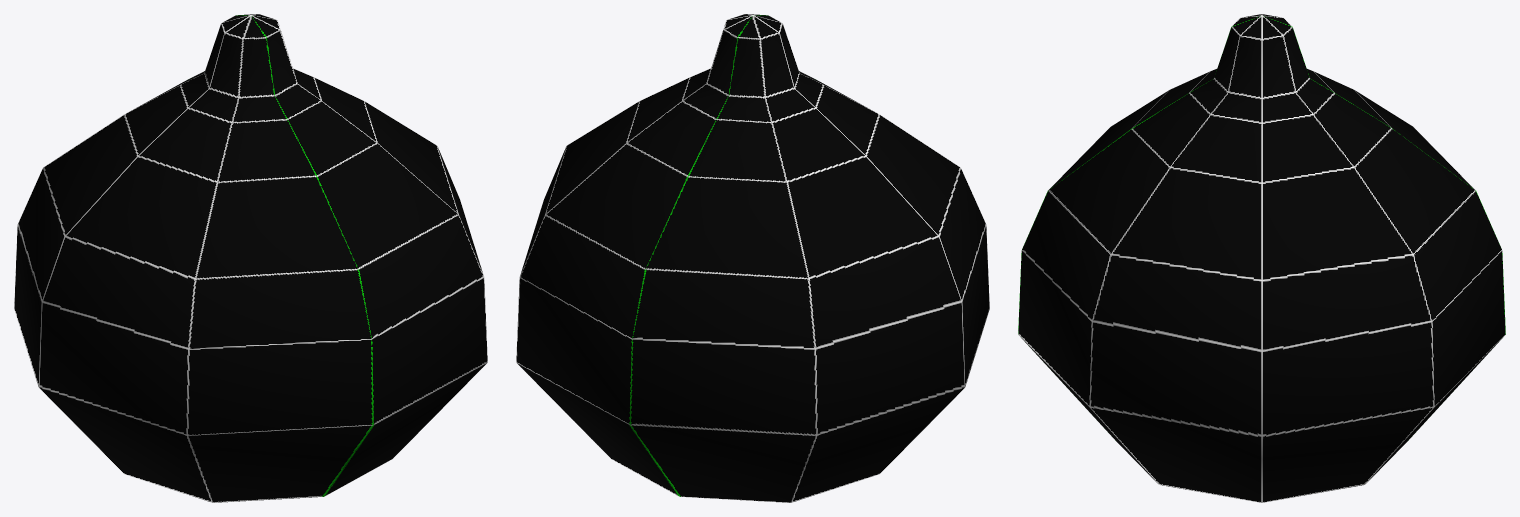
Rendered from asset_ingredient_onion_state1.FBX.
3 renders of one model, left to right at view 1: azimuth 30°, elevation 25°; view 2: azimuth 150°, elevation 25°; view 3: azimuth 270°, elevation 25°, orthographic.
Parts seen in each view (by area): view 1: Sphere001; view 2: Sphere001; view 3: Sphere001.
Part boxes in pixels (bbox=[...]): Sphere001: bbox=[14, 14, 487, 502]; Sphere001: bbox=[516, 14, 989, 502]; Sphere001: bbox=[1018, 14, 1505, 502].
Size of the model in its own units: 6.64 by 7.07 by 6.64.
